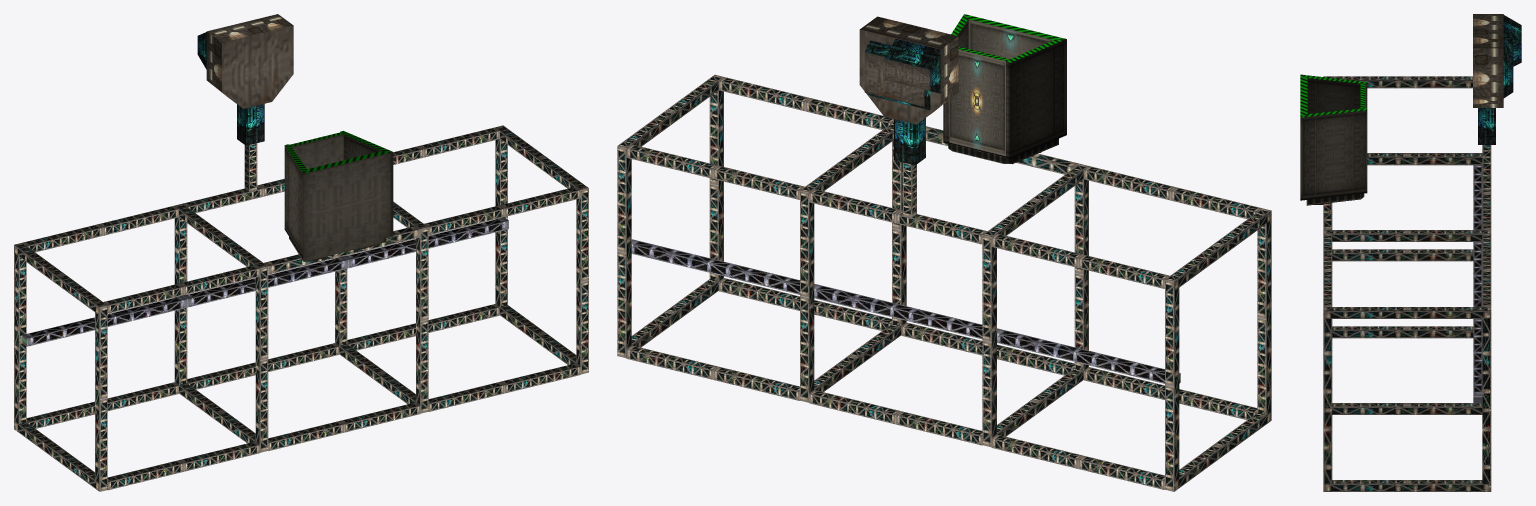
File: acs05_static.obj
3 renders of one model, left to right at view 1: azimuth 30°, elevation 25°; view 2: azimuth 150°, elevation 25°; view 3: azimuth 270°, elevation 25°, orthographic. The views are drawn at different scales.
Visible parts, largest first — view 1: frm-fuselg, frm-mfuselg17, frm-mfuselg23, frm-mfuselg25, frm-fuselg3, frm-mfuselg24, frm-mfuselg1, frm-mfuselg14, frm-mfuselg20, frm-mfuselg13, frm-fuselg6, frm-fuselg5 (+11 smaller); view 2: frm-fuselg, frm-mfuselg17, frm-mfuselg25, frm-mfuselg23, frm-mfuselg24, frm-fuselg3, frm-mfuselg2, frm-mfuselg11, frm-mfusegl3, frm-mfusegl4, frm-mfuselg12, frm-mfuselg14 (+14 smaller); view 3: frm-fuselg, frm-mfuselg25, frm-mfuselg24, frm-mfuselg17, frm-mfuselg23, frm-fuselg3, frm-mfuselg22, frm-mfuselg2, frm-mfuselg1, frm-fuselg4, frm-fuselg1, frm-mfuselg20 (+6 smaller).
Boxes of the visible parts, x1,y1,x2,y2 form: frm-fuselg: [284, 131, 393, 258]; frm-mfuselg17: [14, 243, 107, 491]; frm-mfuselg23: [174, 203, 268, 452]; frm-mfuselg25: [495, 125, 588, 374]; frm-fuselg3: [206, 14, 293, 108]; frm-mfuselg24: [335, 201, 428, 413]; frm-mfuselg1: [424, 186, 580, 235]; frm-mfuselg14: [103, 265, 259, 313]; frm-mfuselg20: [22, 296, 187, 346]; frm-mfuselg13: [107, 441, 259, 490]; frm-fuselg6: [428, 363, 580, 411]; frm-fuselg5: [268, 402, 420, 451]; frm-fuselg: [943, 14, 1066, 158]; frm-mfuselg17: [1165, 208, 1271, 491]; frm-mfuselg25: [617, 74, 723, 358]; frm-mfuselg23: [982, 164, 1088, 447]; frm-mfuselg24: [800, 122, 906, 402]; frm-fuselg3: [859, 16, 958, 124]; frm-mfuselg2: [626, 144, 804, 199]; frm-mfuselg11: [991, 233, 1169, 288]; frm-mfusegl3: [809, 390, 982, 445]; frm-mfusegl4: [626, 345, 799, 400]; frm-mfuselg12: [991, 434, 1164, 489]; frm-mfuselg14: [1083, 166, 1261, 219]; frm-fuselg: [1300, 74, 1367, 200]; frm-mfuselg25: [1323, 307, 1491, 491]; frm-mfuselg24: [1323, 230, 1491, 414]; frm-mfuselg17: [1323, 76, 1473, 261]; frm-mfuselg23: [1332, 153, 1482, 338]; frm-fuselg3: [1473, 14, 1503, 107]; frm-mfuselg22: [1473, 319, 1482, 403]; frm-mfuselg2: [1482, 234, 1491, 306]; frm-mfuselg1: [1323, 234, 1332, 306]; frm-fuselg4: [1478, 108, 1495, 144]; frm-fuselg1: [1503, 15, 1521, 66]; frm-mfuselg20: [1473, 165, 1482, 229].
Size of the model in its own units: 21.88 by 14.76 by 8.73.
